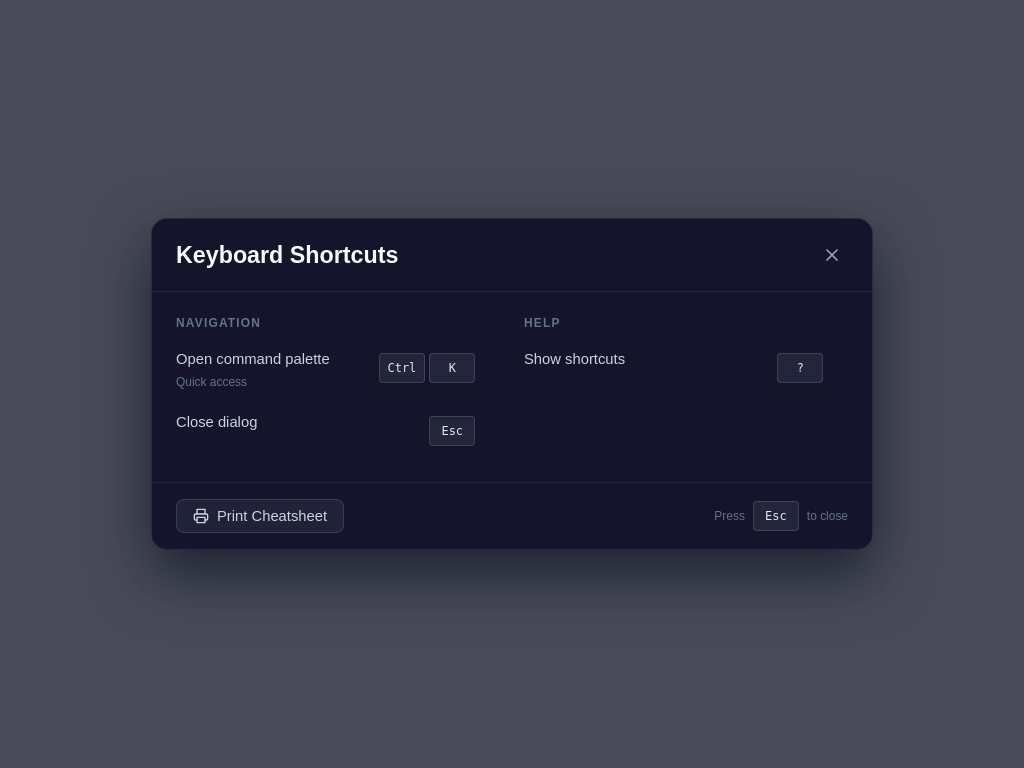
Scenario: KeyboardShortcutsOverlay › detects conflict with reserved OS shortcuts
The width and height of the screenshot is (1024, 768).
Click the button with aria-label "Edit shortcut for Close dialog" at x=462, y=431, box x1=424 y1=413 x2=500 y2=449
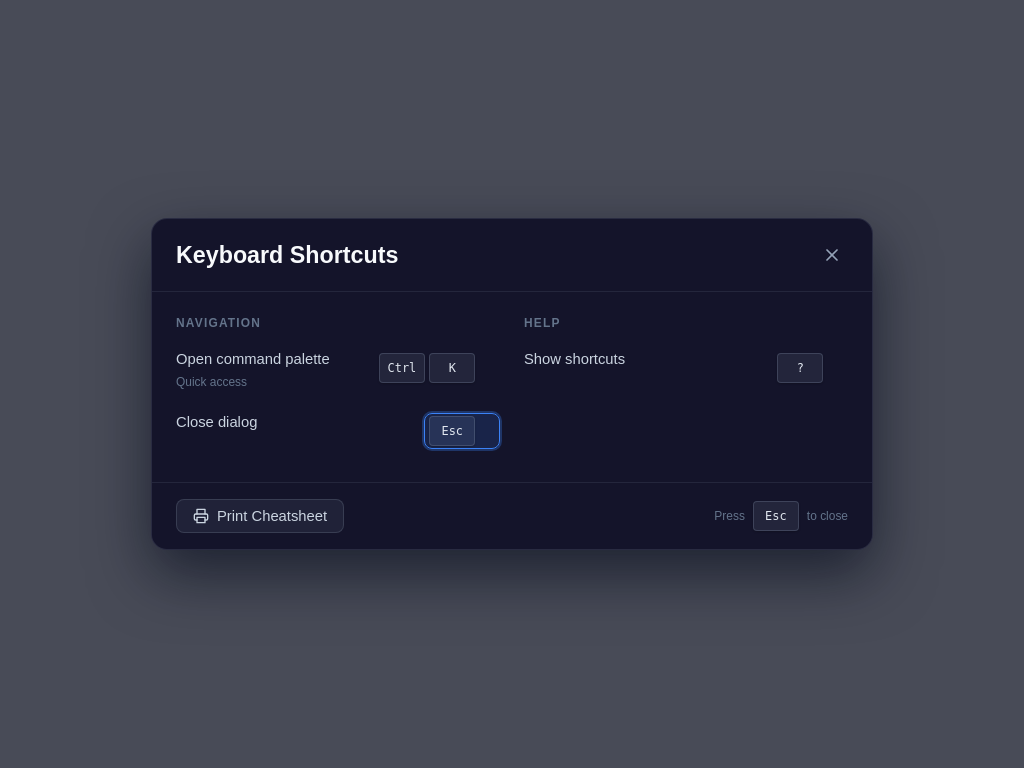
Note: Press mod+T which is reserved
Press t
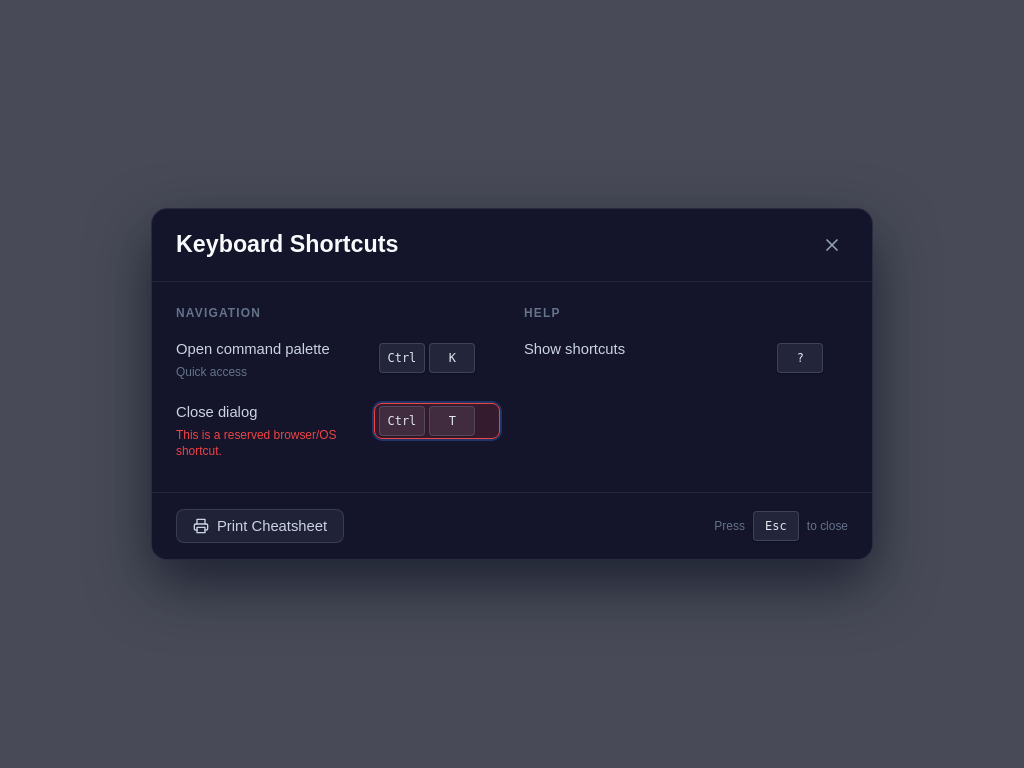
expect the text "This is a reserved browser/OS shortcut." is shown: met, box x1=176 y1=427 x2=358 y2=459
